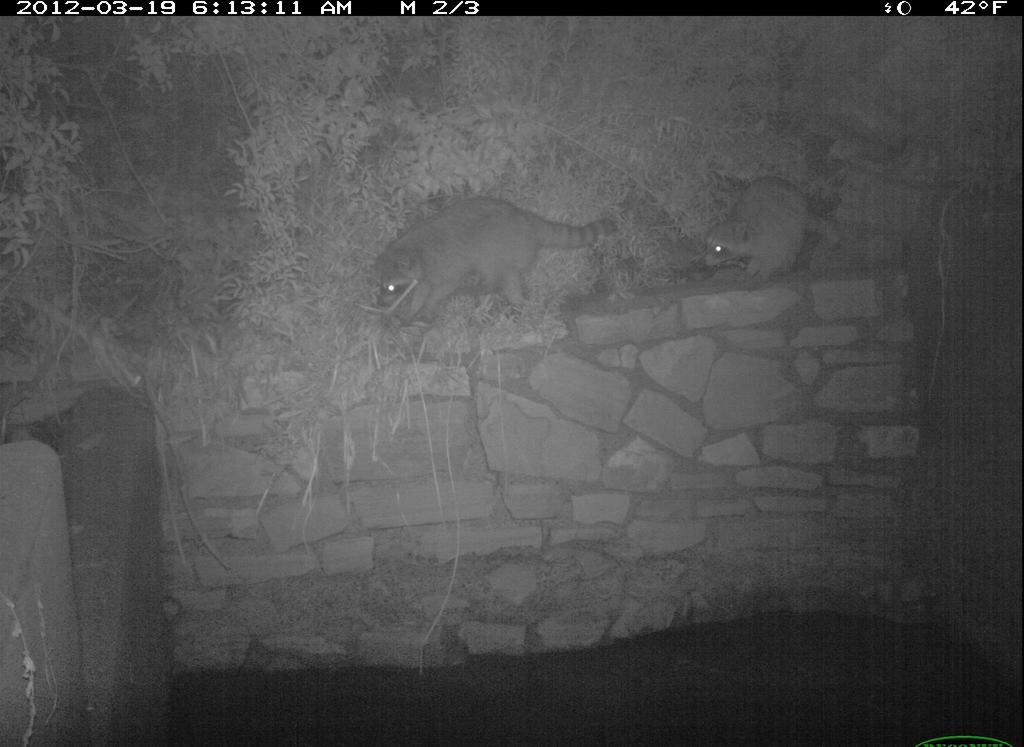raccoon: (363, 194, 623, 333), (690, 167, 854, 287)
